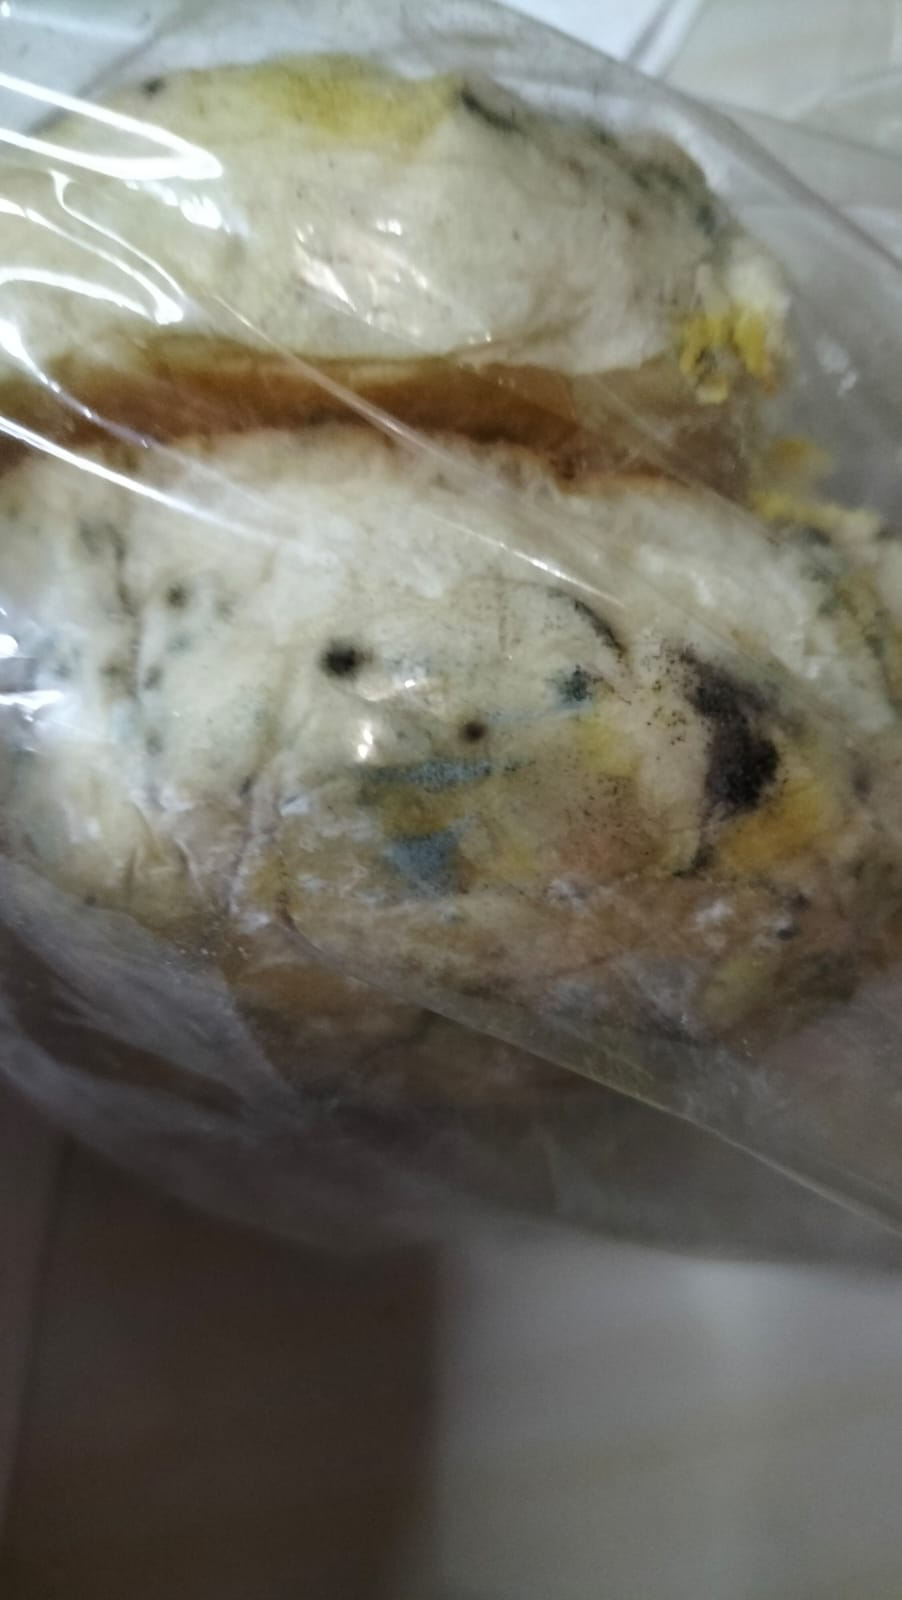mold_bread: (673, 633, 788, 884), (378, 815, 478, 916), (442, 65, 525, 144), (307, 621, 376, 693), (543, 657, 601, 722), (66, 516, 135, 567), (135, 64, 177, 111), (158, 581, 201, 620), (456, 709, 494, 752)
